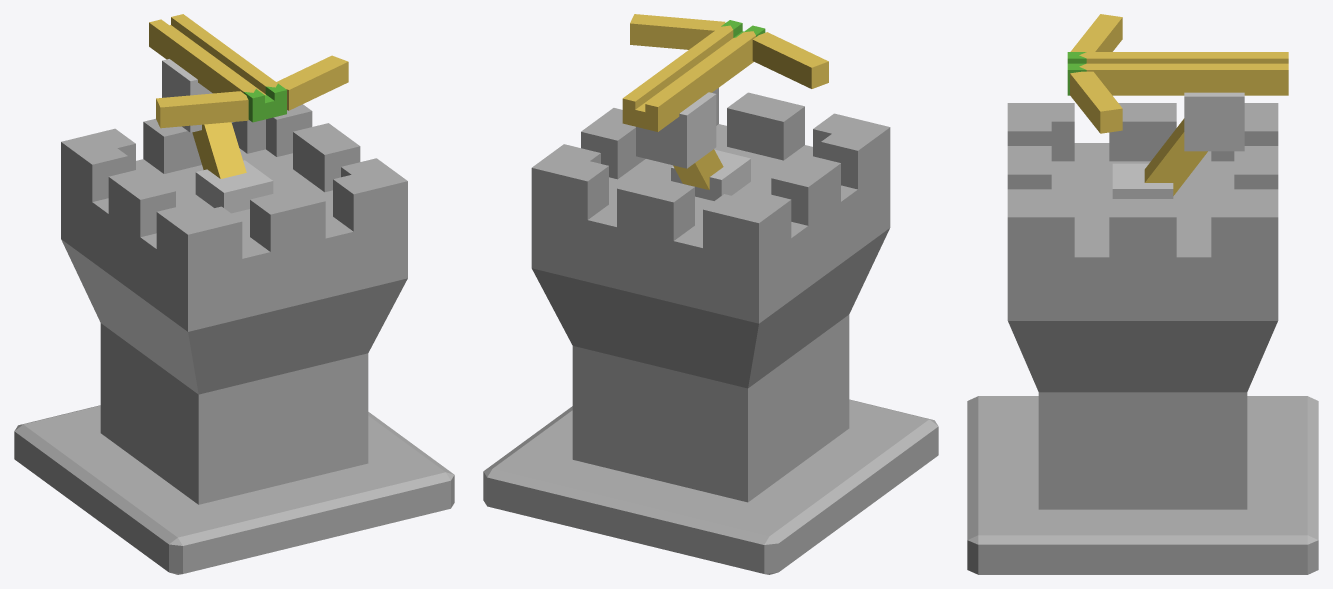
File: poison_turet.fbx
3 renders of one model, left to right at view 1: azimuth 30°, elevation 25°; view 2: azimuth 150°, elevation 25°; view 3: azimuth 270°, elevation 25°, orthographic. The views are drawn at different scales.
Parts seen in each view (by area): view 1: Cube.040, Cube, Cube.039, simple_turet_mid.002, simple_turet_left.002, Cube.037, simple_turet_right.002, Cube.038, Cube.036; view 2: Cube.040, Cube, Cube.039, simple_turet_mid.002, Cube.036, simple_turet_left.002, simple_turet_right.002, Cube.037, Cube.038; view 3: Cube.040, Cube, Cube.039, simple_turet_mid.002, Cube.036, simple_turet_right.002, Cube.038, Cube.037, simple_turet_left.002.
Boxes of the visible parts, x1,y1,x2,y2 form: Cube.040: [61, 148, 407, 504]; Cube: [14, 405, 454, 574]; Cube.039: [61, 104, 407, 271]; simple_turet_mid.002: [149, 14, 286, 122]; simple_turet_left.002: [156, 91, 248, 128]; Cube.037: [195, 160, 273, 213]; simple_turet_right.002: [276, 55, 348, 110]; Cube.038: [192, 122, 246, 178]; Cube.036: [162, 59, 233, 132]; Cube.040: [531, 124, 890, 502]; Cube: [483, 399, 938, 574]; Cube.039: [531, 88, 890, 261]; simple_turet_mid.002: [622, 20, 765, 131]; Cube.036: [636, 92, 716, 168]; simple_turet_left.002: [752, 32, 828, 88]; simple_turet_right.002: [630, 14, 725, 49]; Cube.037: [671, 149, 750, 200]; Cube.038: [673, 149, 723, 189]; Cube.040: [1007, 143, 1278, 509]; Cube: [967, 396, 1318, 574]; Cube.039: [1007, 103, 1278, 257]; simple_turet_mid.002: [1067, 52, 1288, 95]; Cube.036: [1184, 92, 1244, 151]; simple_turet_right.002: [1070, 71, 1122, 133]; Cube.038: [1144, 118, 1207, 195]; Cube.037: [1112, 163, 1173, 198]; simple_turet_left.002: [1070, 14, 1122, 51].
Bounding box in the file's own units: 400 × 558 × 400.
